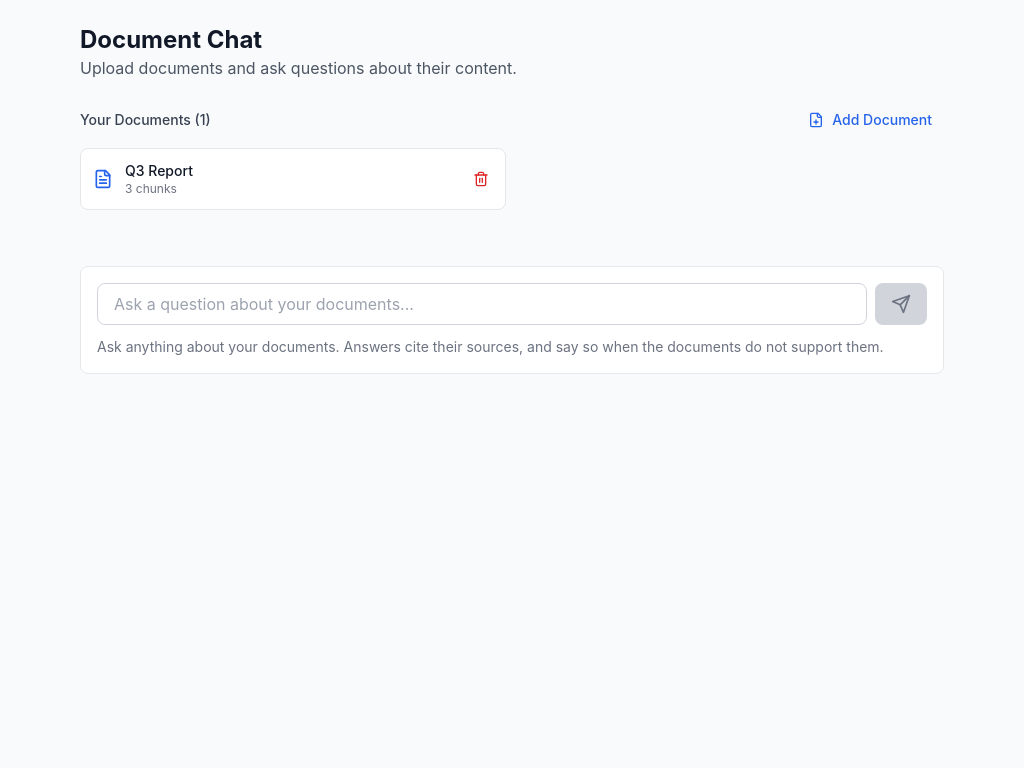
Test: ChatPage: asking a question › regenerates an answer and keeps both attempts
The width and height of the screenshot is (1024, 768).
Type "How did revenue change?" into the field named "Your question". click: (482, 304)
box: [97, 283, 867, 325]
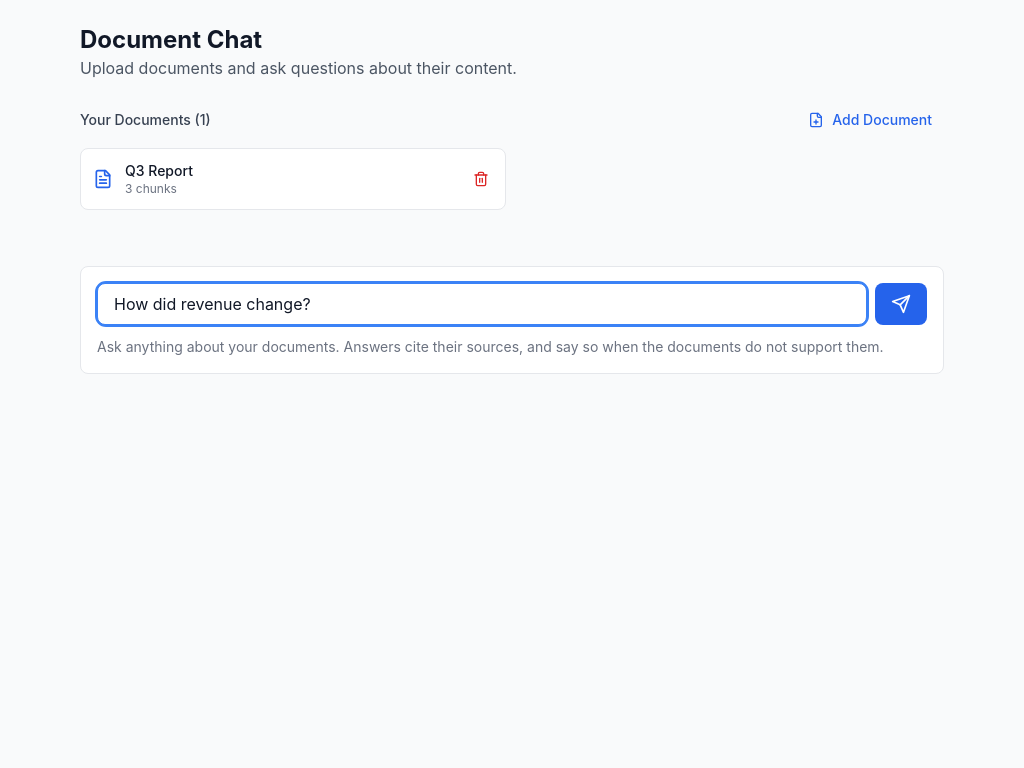
Click the button named "send question". click: (901, 304)
box: [875, 283, 927, 325]
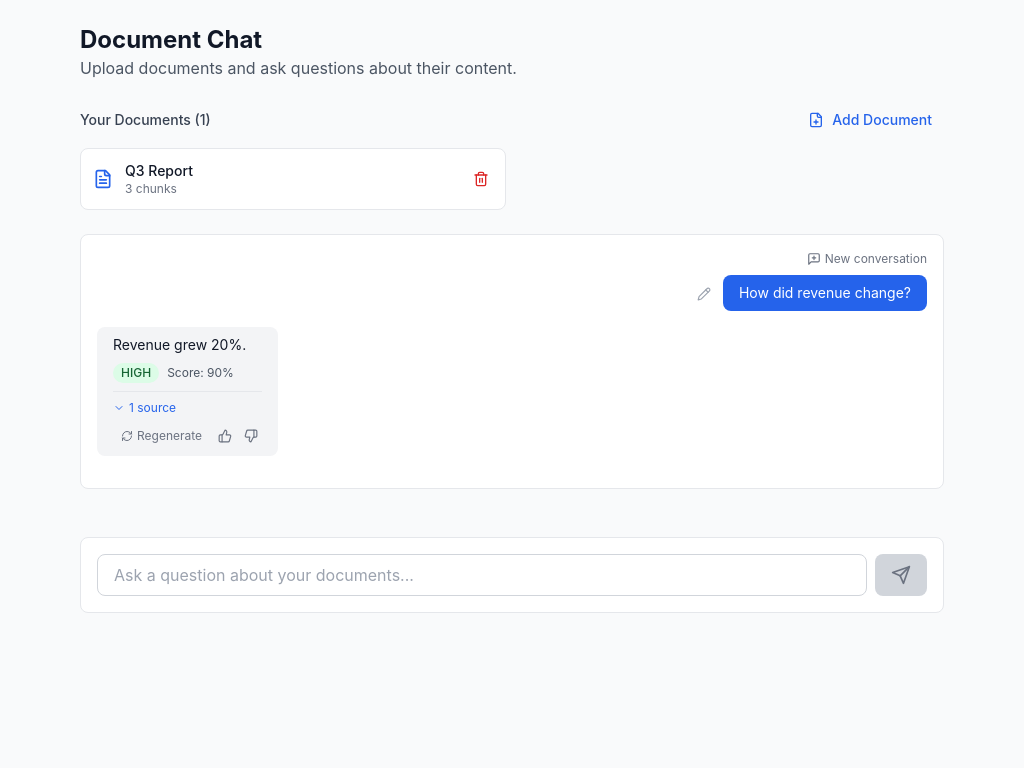
Click the button "Regenerate". click: (162, 436)
box: [113, 424, 210, 448]
(page scrolled)
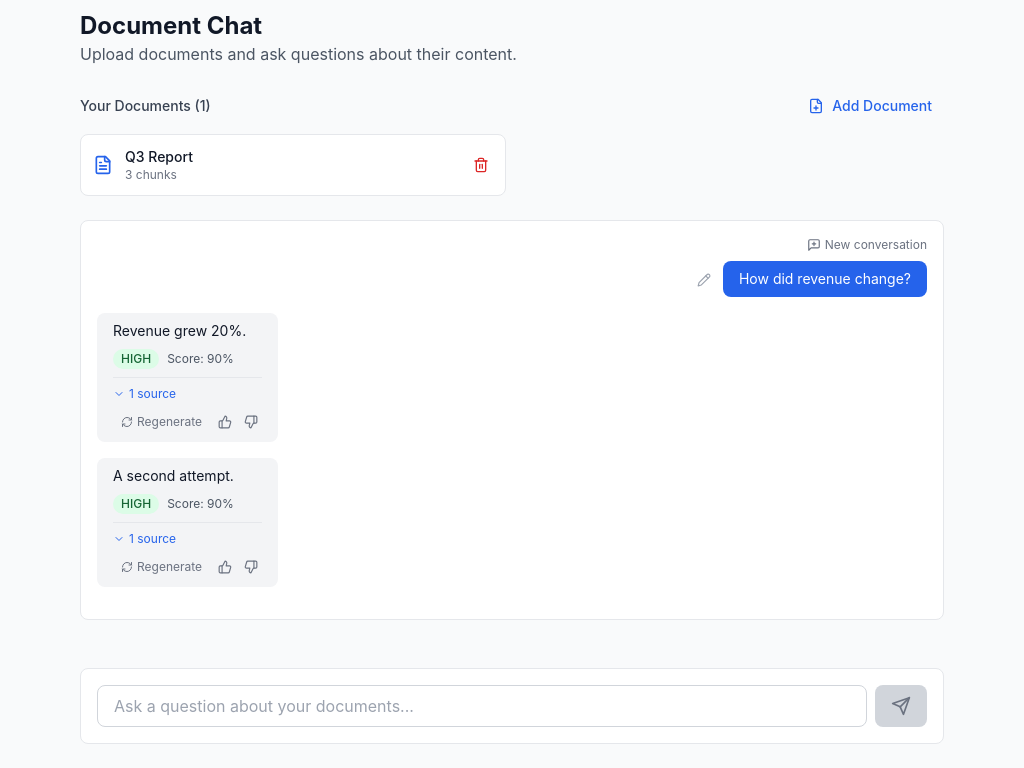
Expected: the number of elements with test id "assistant-message" is 2, [97, 313, 278, 442]; [97, 458, 278, 587]
Expected: the text "A second attempt." is shown, [113, 467, 234, 484]
